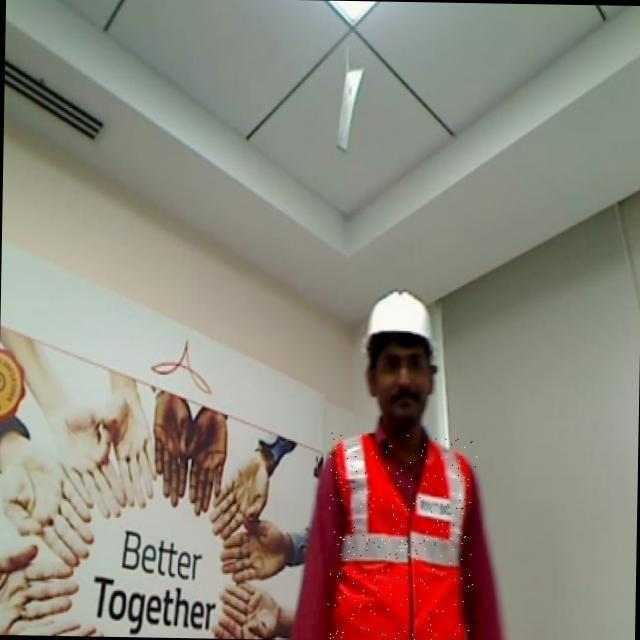helmet: (359, 285, 441, 373)
vest: (326, 432, 477, 640)
